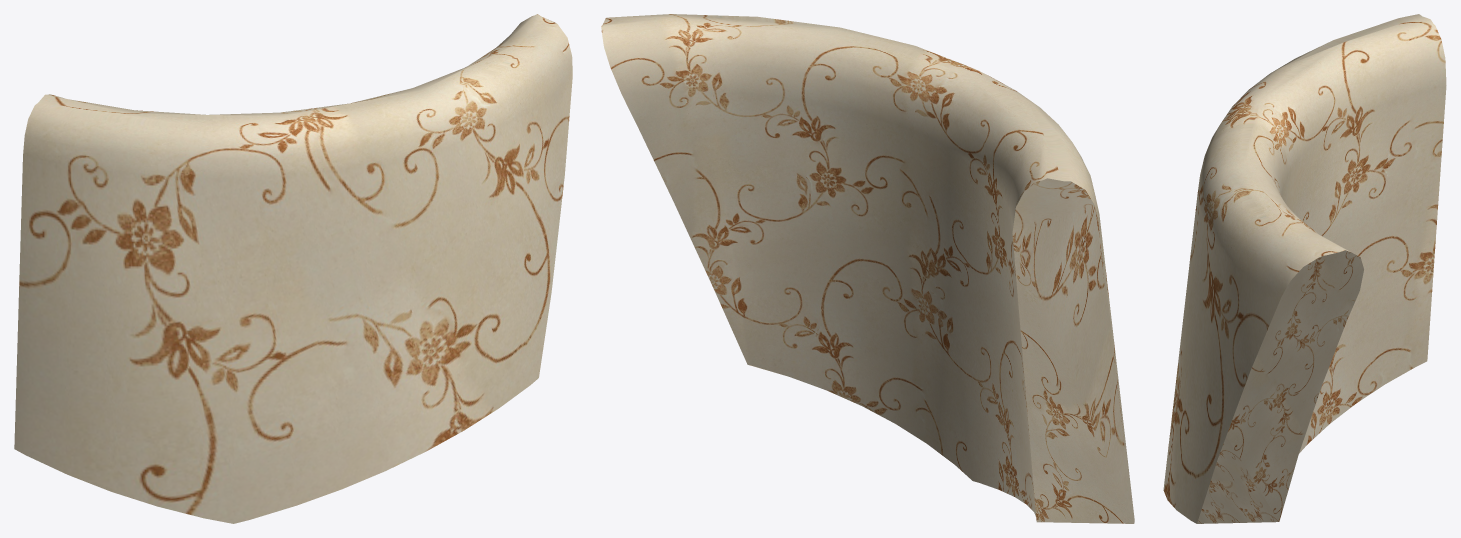
The picture shows the model from 3 angles, left to right: view 1: azimuth 30°, elevation 25°; view 2: azimuth 150°, elevation 25°; view 3: azimuth 270°, elevation 25°; orthographic projection. The views are drawn at different scales.
Visible parts, largest first — view 1: Cylinder_cell; view 2: Cylinder_cell; view 3: Cylinder_cell.
Part boxes in pixels (<box>): Cylinder_cell: <box>14,14,572,523</box>; Cylinder_cell: <box>601,14,1134,523</box>; Cylinder_cell: <box>1163,14,1446,523</box>.
Bounding box in the file's own units: 1.35 × 0.9294 × 0.6104.
1 material, 1 textured.
